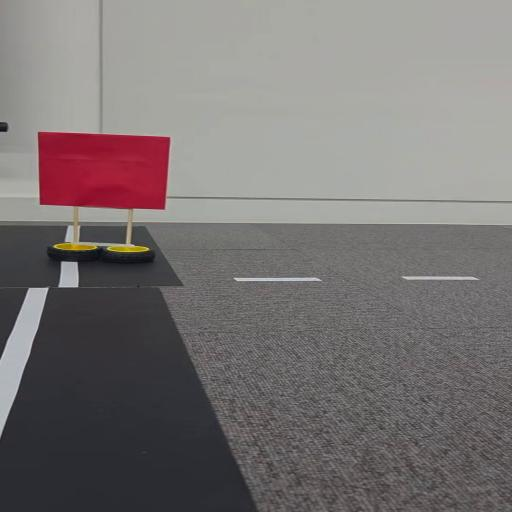Sign_A: (24, 125, 185, 271)
